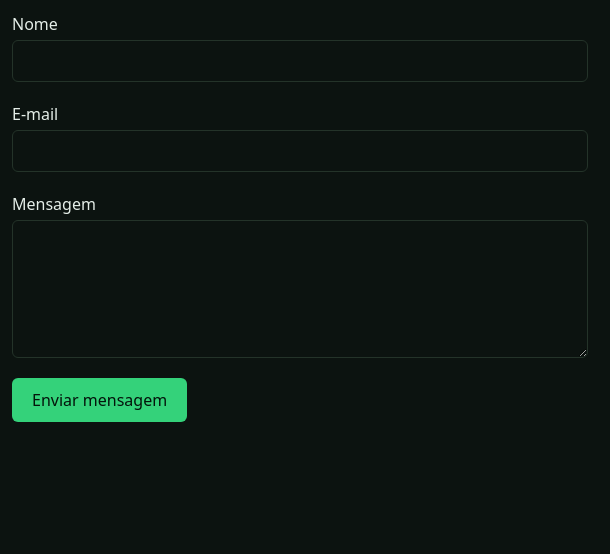
Scenario: ContactForm › mostra erros por campo, liga-os aos inputs e foca o primeiro inválido
In the field labelled "E-mail": (300, 151) [12,130,588,172], type "ana@"
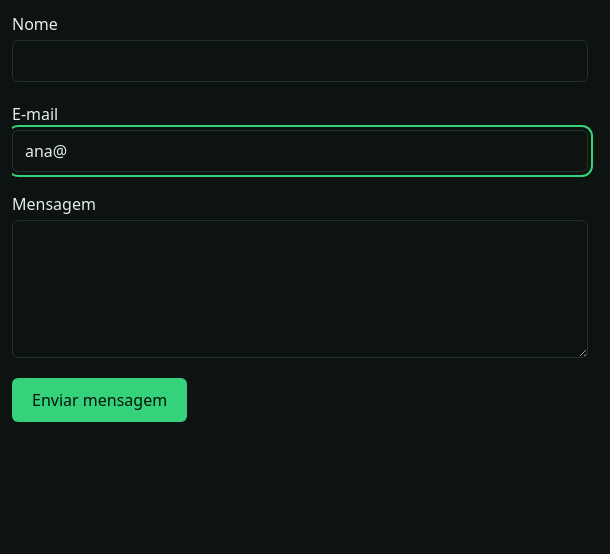
In the text box labelled "Mensagem": (300, 289) [12,220,588,358], type "curta"
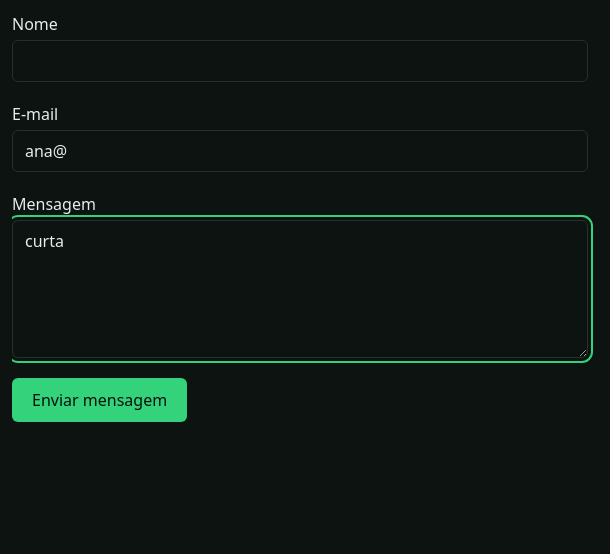
Click the button "Enviar mensagem": click(100, 400) [12,378,187,422]
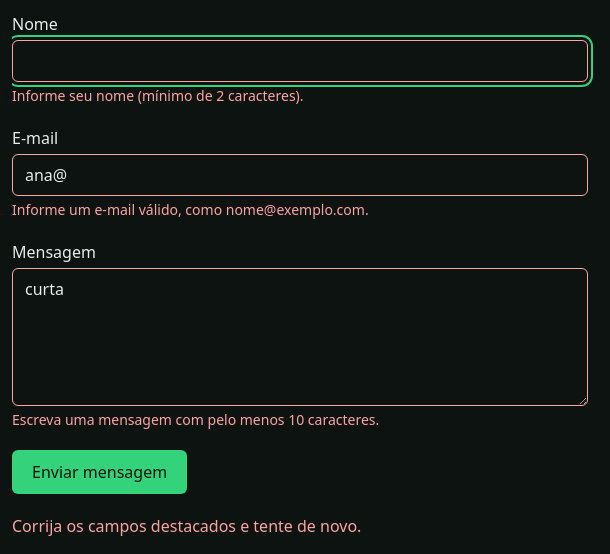
Check: the message reads "Corrija os campos destacados e tente de novo.", box [12,515,361,537]
